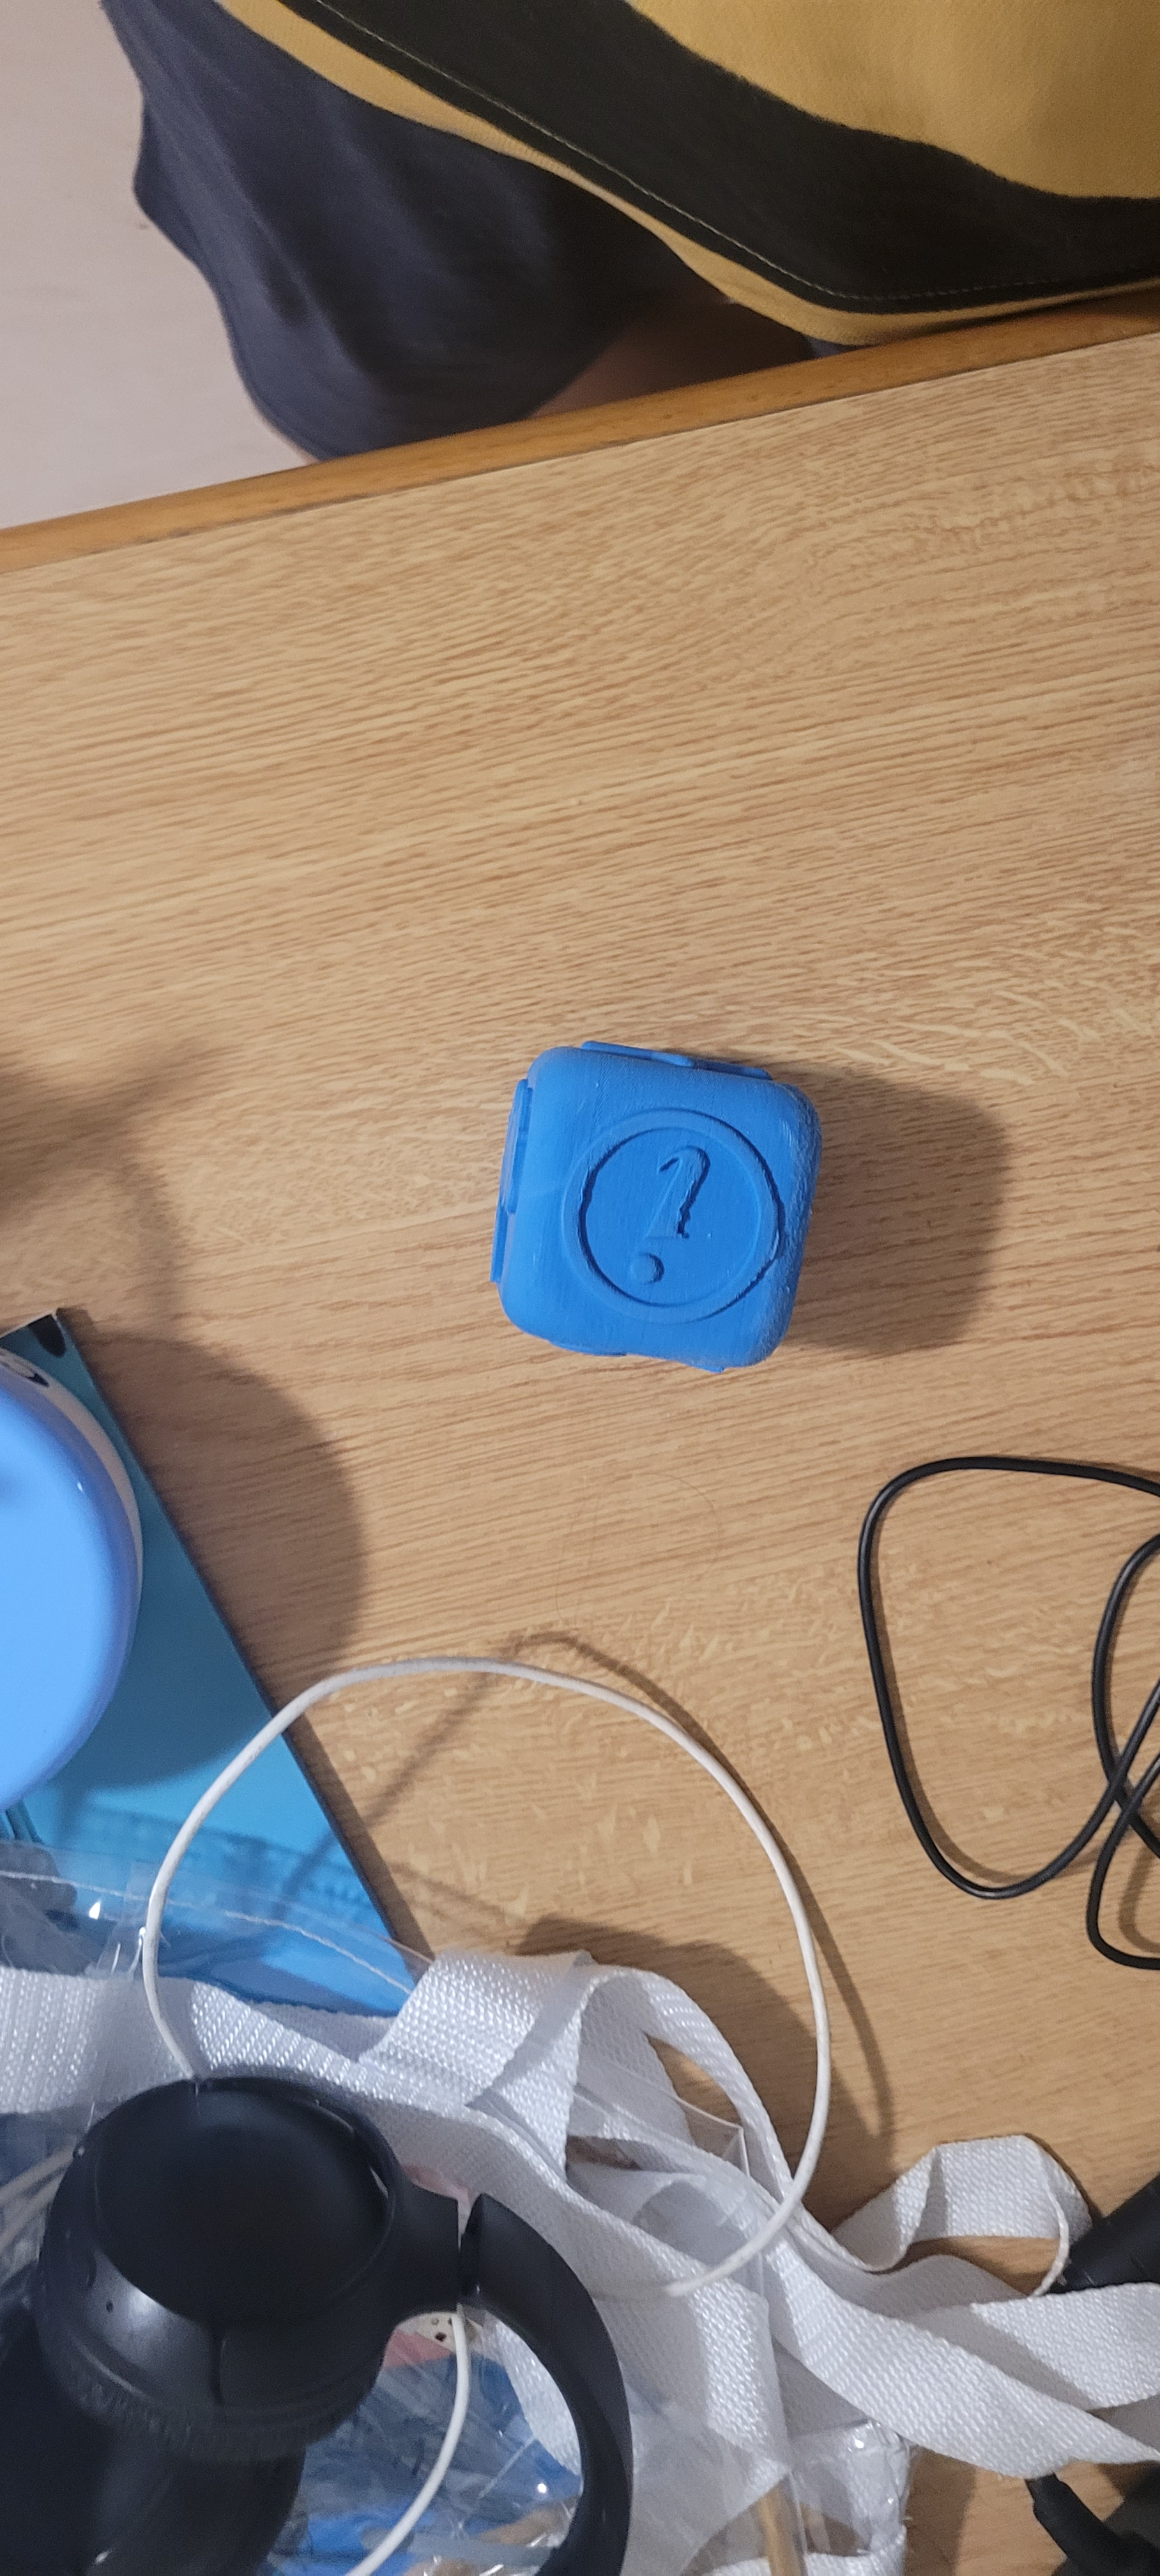Info: (555, 1089, 797, 1341)
